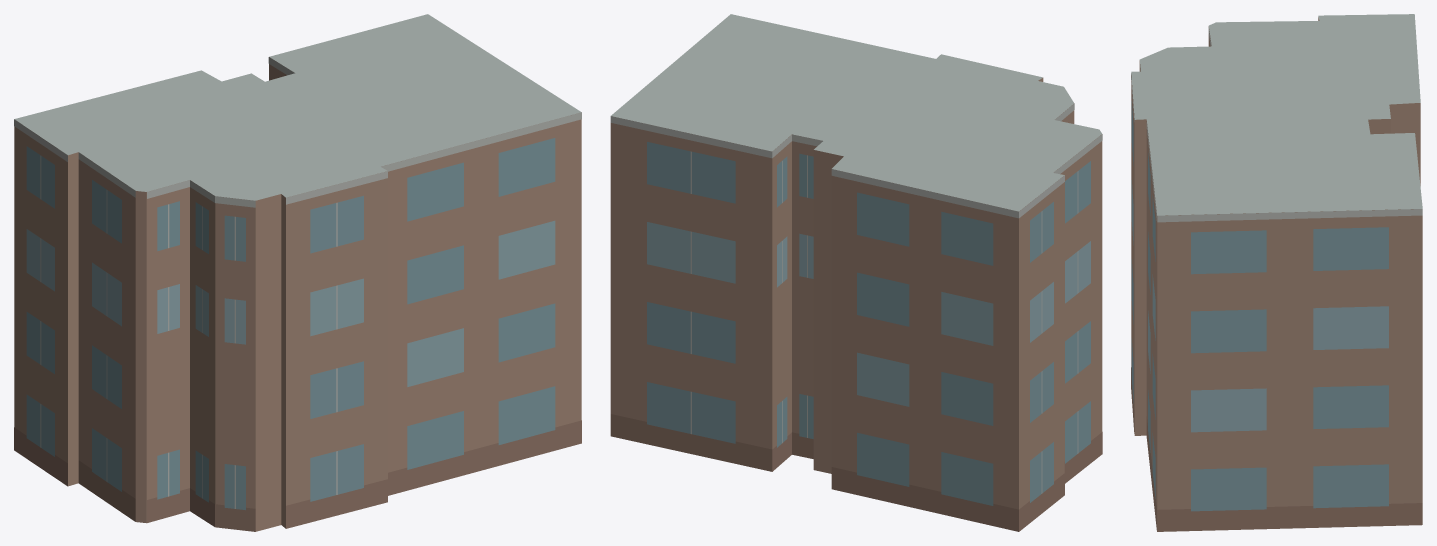
File: survey-upis-32881134.glb
3 renders of one model, left to right at view 1: azimuth 30°, elevation 25°; view 2: azimuth 150°, elevation 25°; view 3: azimuth 270°, elevation 25°, orthographic. The views are drawn at different scales.
Parts seen in each view (by area): view 1: survey-upis-32881134.tmp; view 2: survey-upis-32881134.tmp; view 3: survey-upis-32881134.tmp.
Boxes of the visible parts, x1,y1,x2,y2 form: survey-upis-32881134.tmp: (14,14,581,531); survey-upis-32881134.tmp: (610,14,1102,531); survey-upis-32881134.tmp: (1131,14,1422,531).
Bounding box in the file's own units: 15.74 × 11.5 × 9.62.
